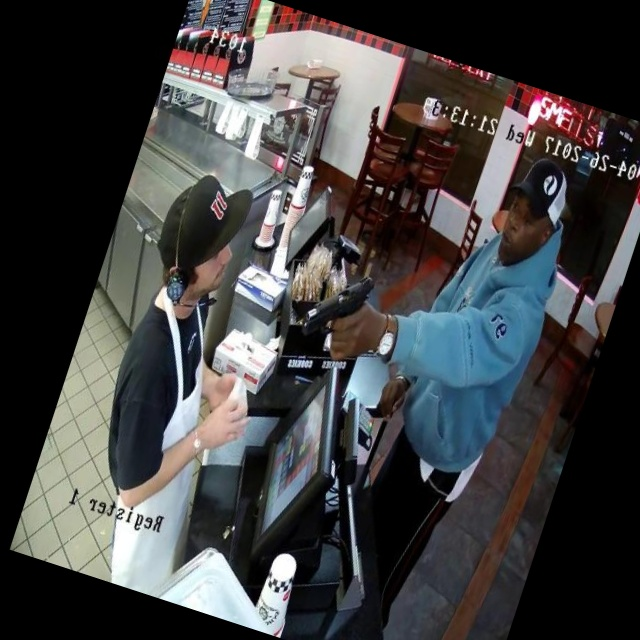gun: (283, 245, 396, 362)
